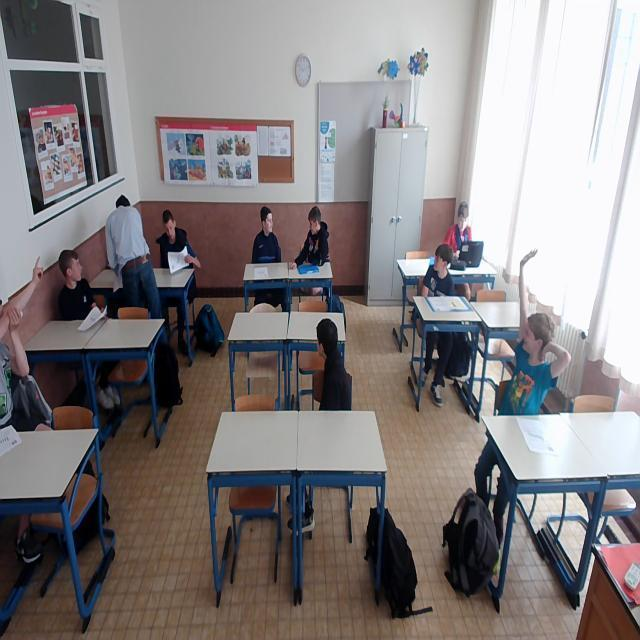Looking away: (68, 259, 84, 282), (434, 252, 448, 272), (164, 221, 177, 240), (308, 217, 320, 235), (457, 214, 469, 231), (264, 213, 274, 233)
Raising hand: (508, 248, 572, 414)
Turning around: (314, 316, 354, 412)
